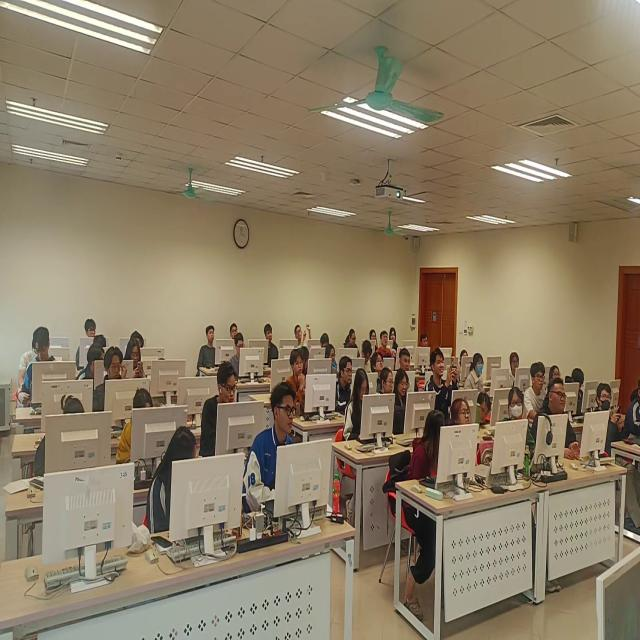raise_head: (253, 391, 314, 529), (202, 364, 242, 453), (541, 378, 579, 461), (289, 352, 331, 420), (503, 390, 533, 469), (101, 353, 138, 404), (202, 323, 225, 374), (527, 360, 548, 412), (338, 354, 356, 412), (263, 321, 284, 365), (290, 320, 314, 351), (508, 349, 526, 388), (378, 331, 395, 365), (398, 352, 416, 377), (82, 316, 99, 342), (420, 328, 435, 357), (372, 357, 386, 377), (229, 320, 240, 342)
using_computer: (41, 391, 106, 476), (25, 327, 75, 399), (123, 397, 172, 470), (346, 370, 383, 452), (231, 335, 267, 389), (565, 364, 590, 420), (469, 355, 499, 396), (346, 328, 368, 358)
using_phone: (594, 389, 628, 468), (426, 354, 460, 411), (129, 341, 150, 385)
